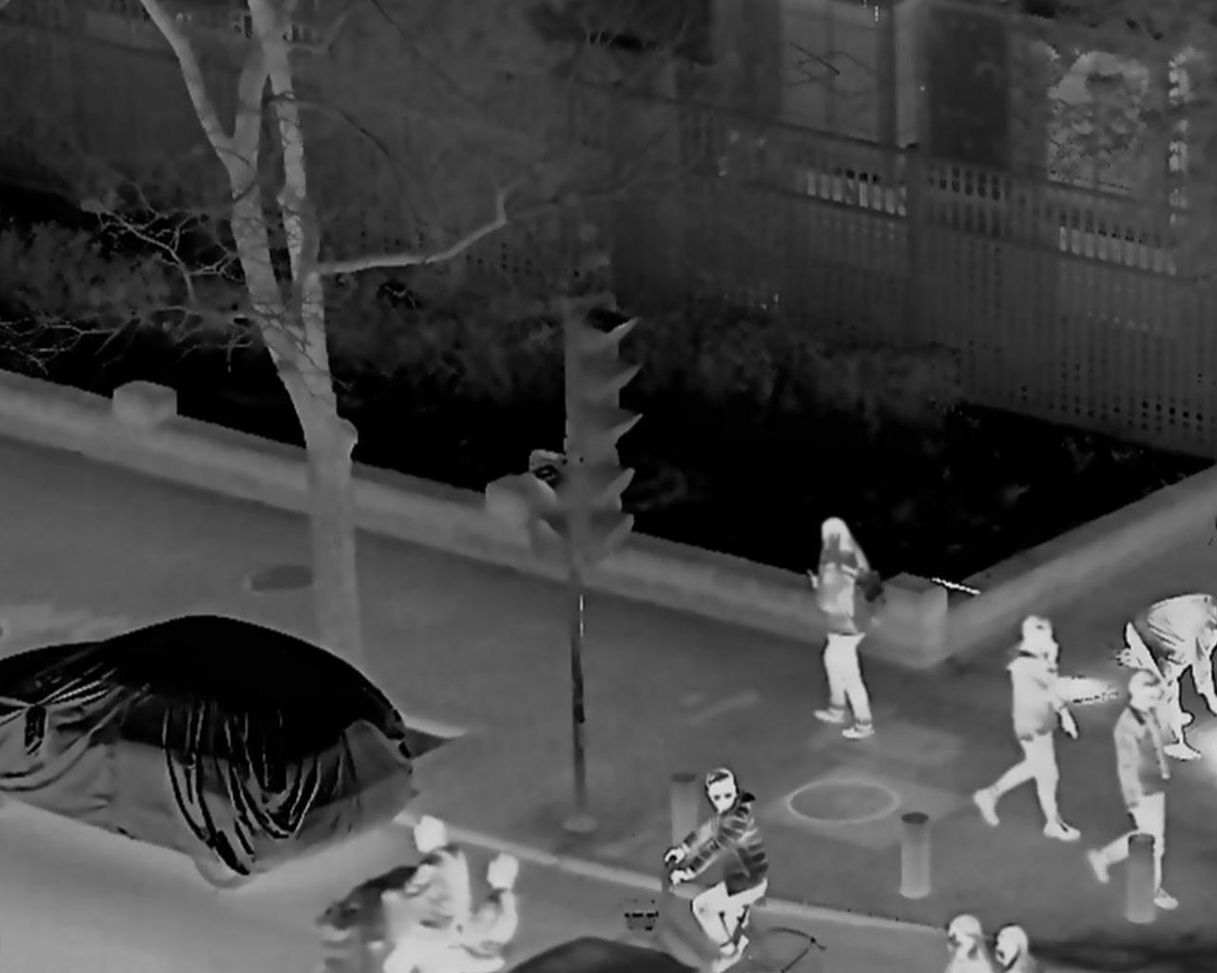person: (970, 618, 1087, 846), (664, 775, 763, 970), (1094, 671, 1172, 910), (1118, 582, 1217, 754), (809, 520, 882, 745), (363, 820, 470, 973), (460, 852, 525, 973), (936, 912, 990, 973), (994, 925, 1041, 973)
